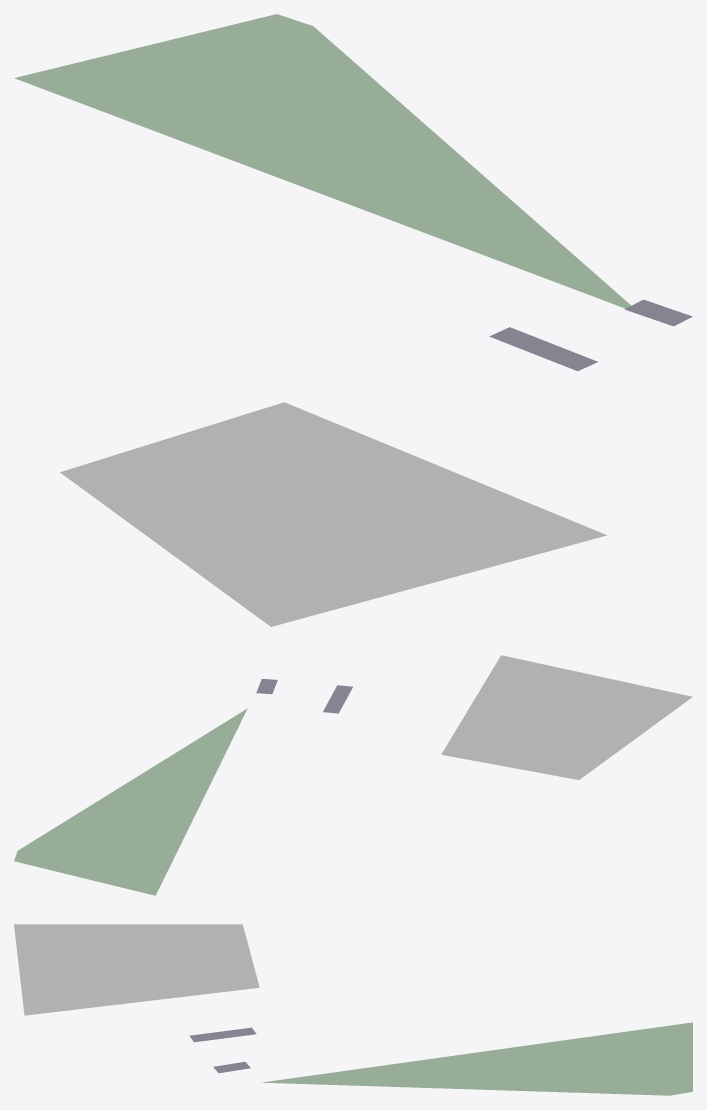
File: 144_111_mid.glb
3 views of the same model, one above another, from view 1: azimuth 30°, elevation 25°; view 2: azimuth 150°, elevation 25°; view 3: azimuth 270°, elevation 25° (orthographic). The views are drawn at different scales.
Size of the model in its own units: 221 by 7.63 by 371.
